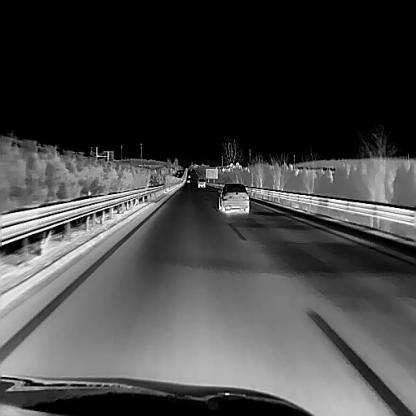car: (217, 181, 248, 213)
truck: (196, 176, 206, 187)
